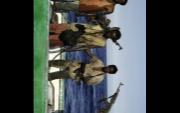gun: (100, 80, 122, 113), (74, 59, 86, 85), (104, 0, 136, 7)
